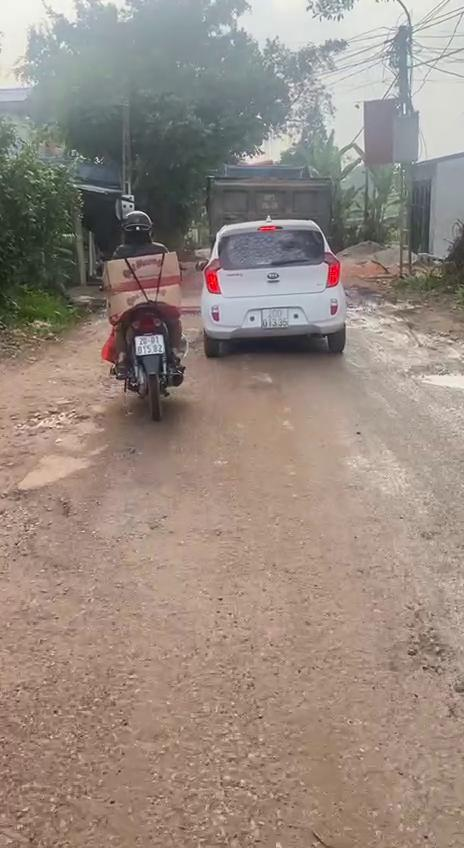pothole: (0, 481, 73, 554), (403, 362, 464, 394), (28, 400, 86, 432)
